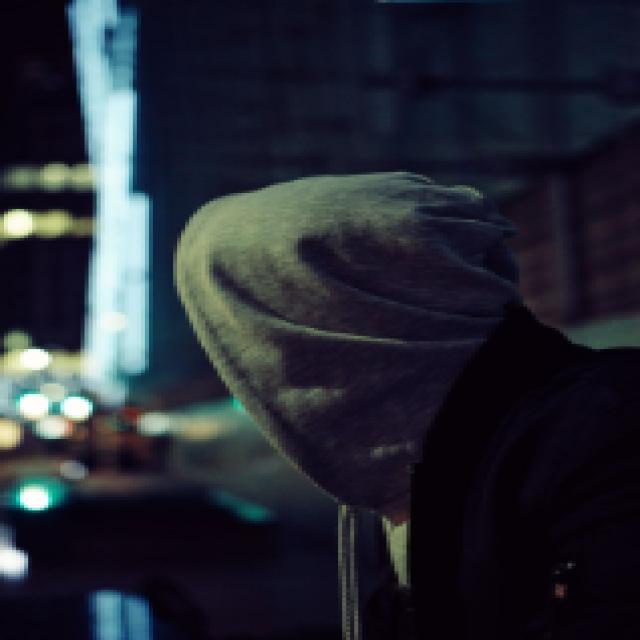4_capucha: (175, 170, 524, 509)
